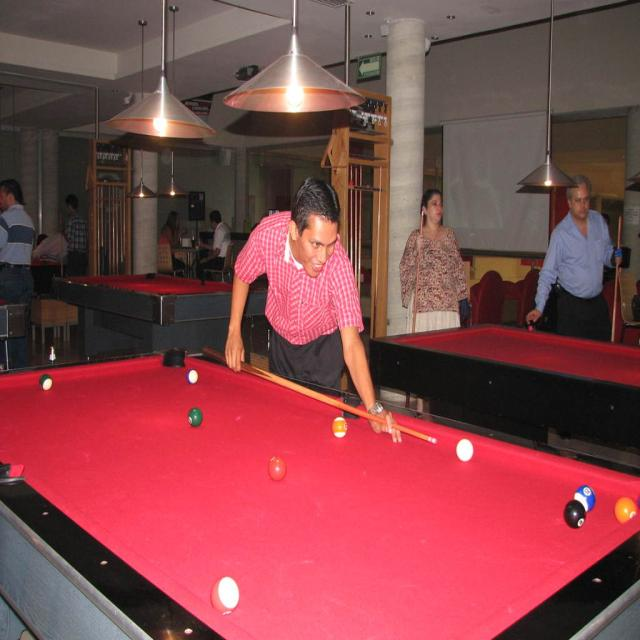Ball: (209, 572, 242, 618), (573, 484, 601, 514), (262, 457, 288, 485), (562, 502, 588, 528), (612, 498, 639, 523), (453, 437, 474, 465), (186, 404, 205, 428), (332, 415, 349, 441), (38, 374, 58, 392), (184, 368, 200, 387)
